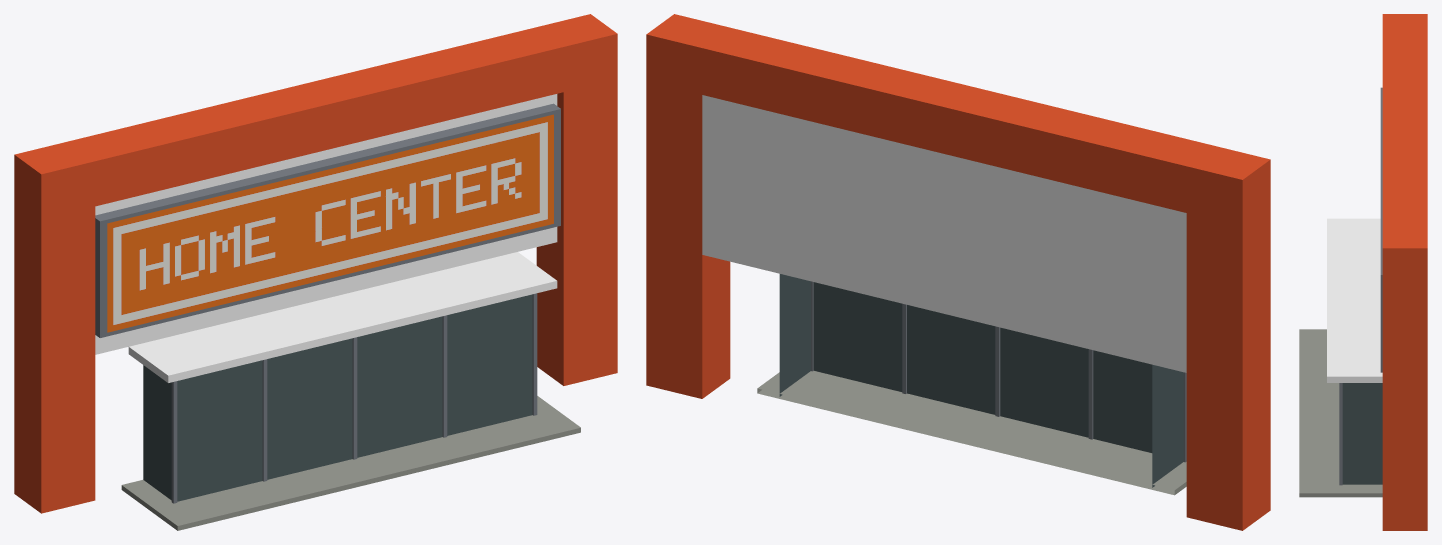
The model's file is entrance.fbx.
3 renders of one model, left to right at view 1: azimuth 30°, elevation 25°; view 2: azimuth 150°, elevation 25°; view 3: azimuth 270°, elevation 25°, orthographic. The views are drawn at different scales.
Parts seen in each view (by area): view 1: a2008/0/entrance; view 2: a2008/0/entrance; view 3: a2008/0/entrance.
Part boxes in pixels (box(x1,y1,x2,y2)): a2008/0/entrance: box(14, 14, 617, 530); a2008/0/entrance: box(646, 14, 1270, 530); a2008/0/entrance: box(1299, 14, 1427, 530).
Bounding box in the file's own units: 16 × 9.05 × 3.7.
